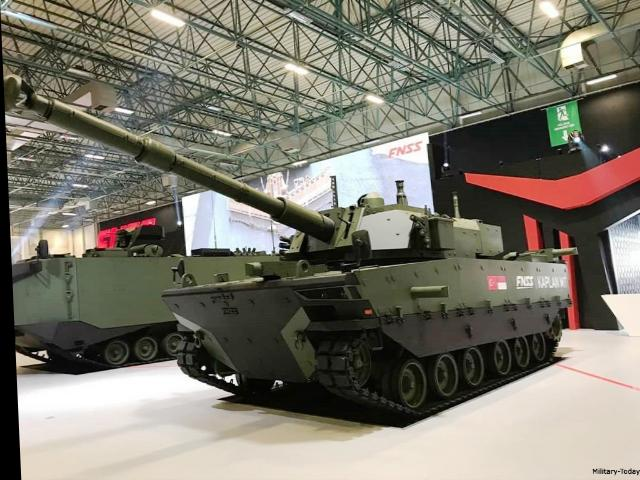tank: (146, 186, 583, 432), (9, 209, 321, 367)
